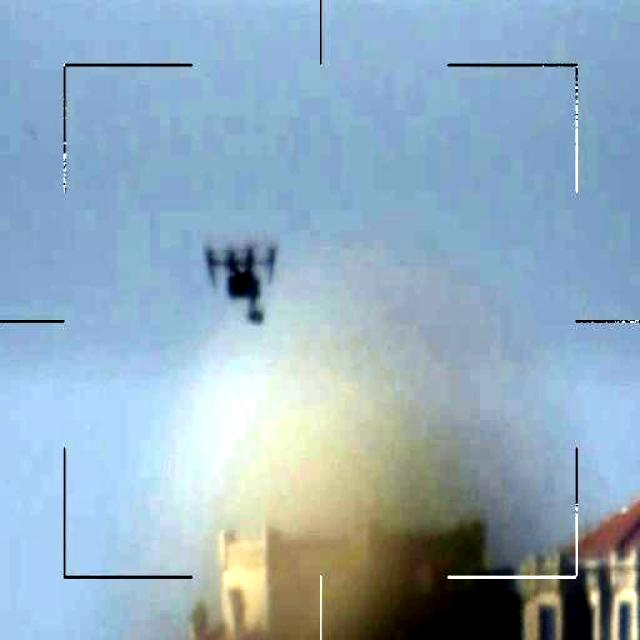bird: (192, 239, 279, 325)
